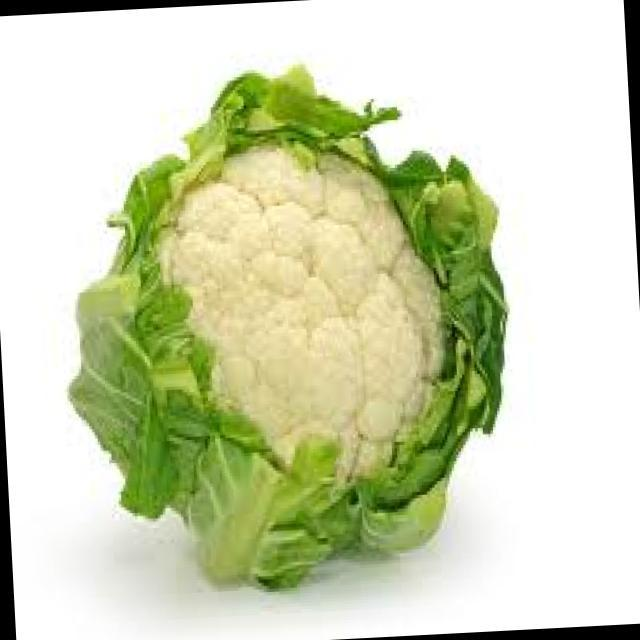Cauliflower: (39, 31, 542, 618)
